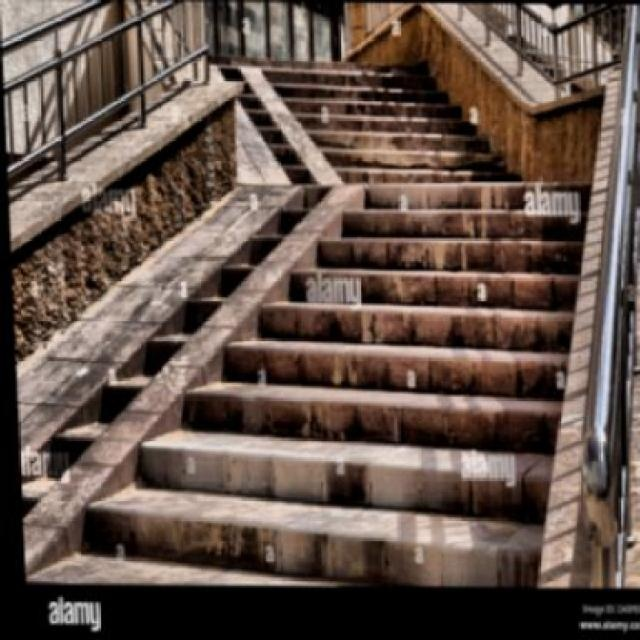stair: (83, 179, 600, 590), (266, 72, 508, 175)
